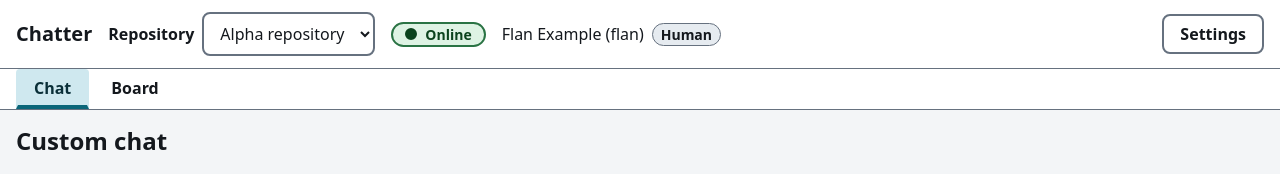
Scenario: signed-in shell: primary navigation and aria-current › shows a view the registry gives it, not only the stubs
The width and height of the screenshot is (1280, 174).
Expected: the heading reads "Custom chat", [16,124,167,157]
Step 1. Click the button "Board" → x=135, y=89, box [93,69,177,109]
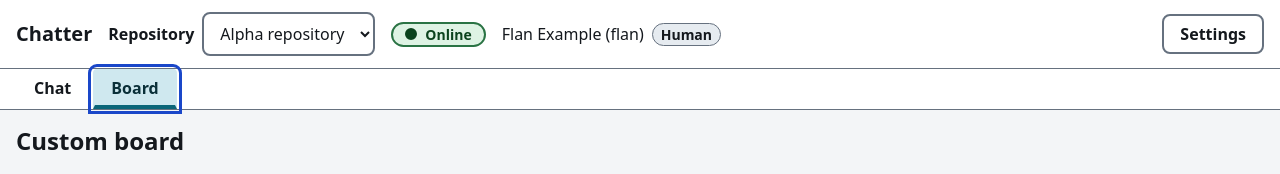
Now the heading reads "Custom board", box [16,124,184,157]
